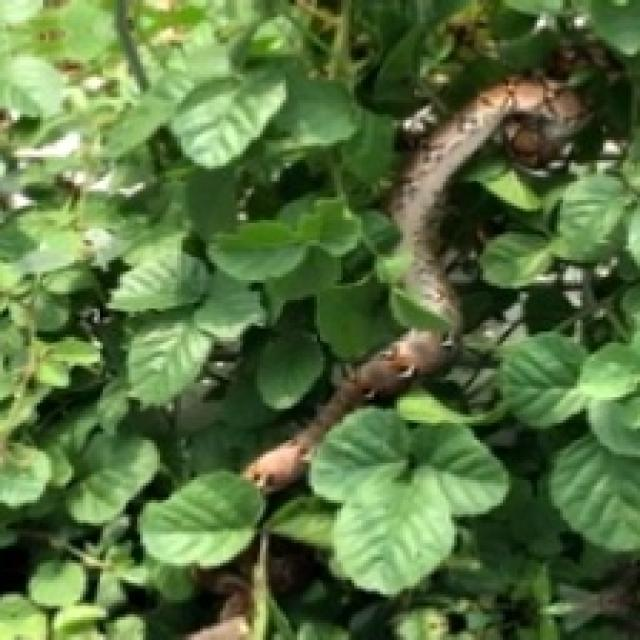reticulated python: (243, 77, 580, 491)
